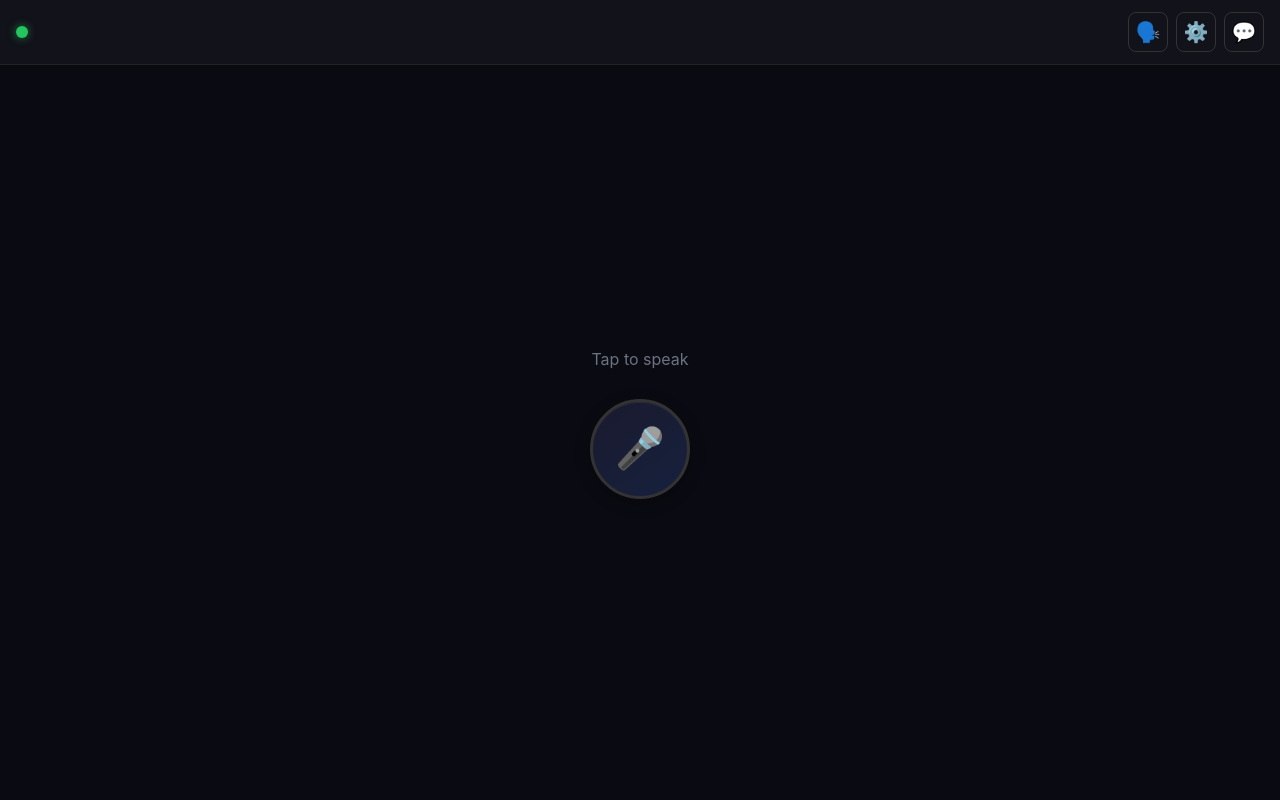
MobileMode › header toggle button › cycles through modes: voice -> unified -> visualizer -> voice
Click to switch to unified mode
Step 1. Click the button named "switch to unified mode" → (1148, 32), box left=1128, top=12, right=1168, bottom=52
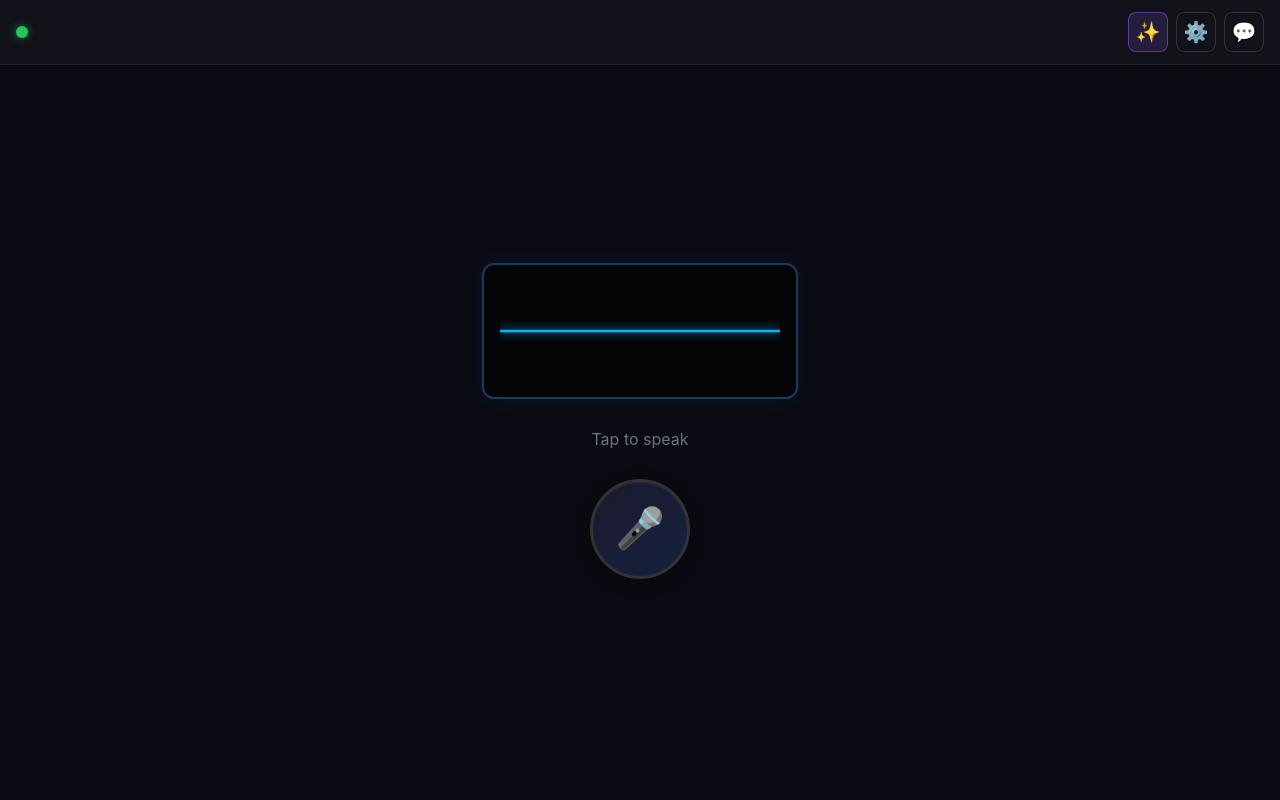
Result: the button named "switch to visualizer mode" reads "✨"
Click to switch to visualizer mode
Step 2. Click the button named "switch to visualizer mode" → (1148, 32), box left=1128, top=12, right=1168, bottom=52
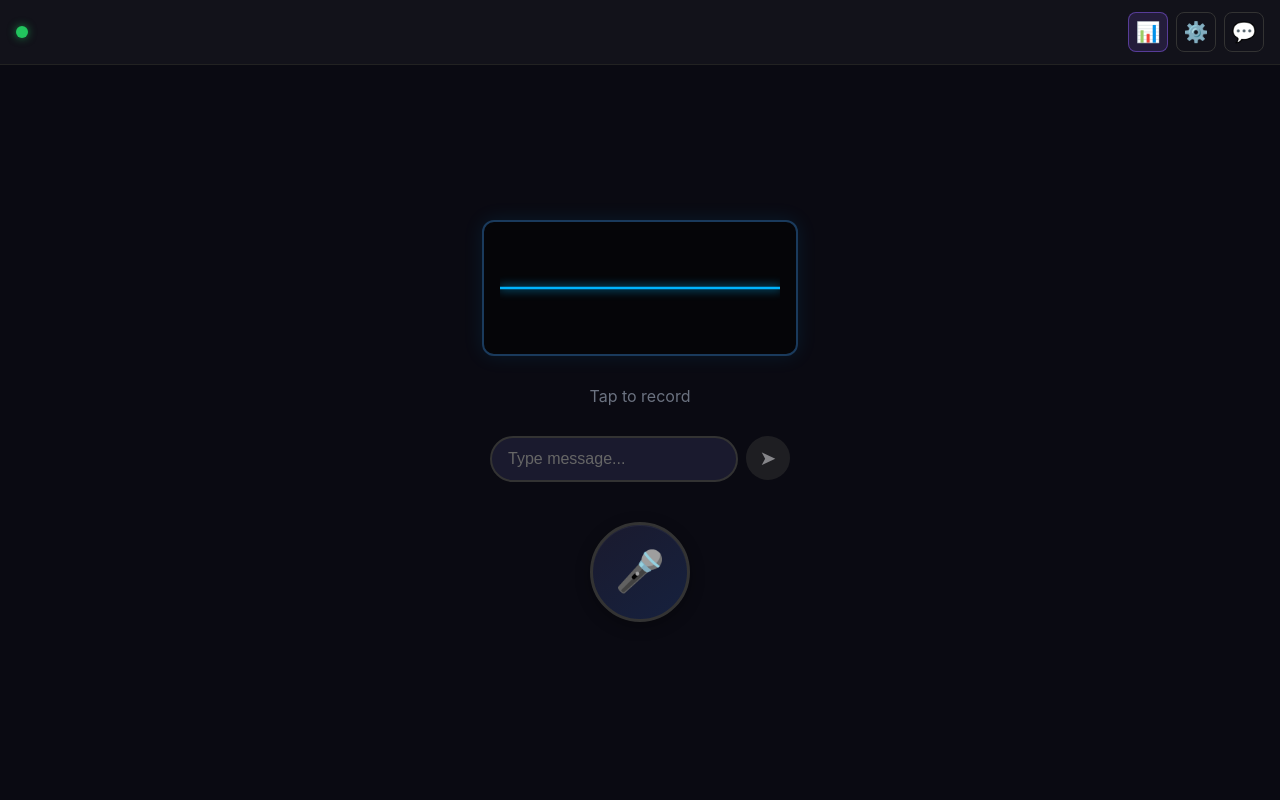
Result: the button named "switch to voice mode" reads "📊"
Click to switch back to voice mode
Step 3. Click the button named "switch to voice mode" → (1148, 32), box left=1128, top=12, right=1168, bottom=52
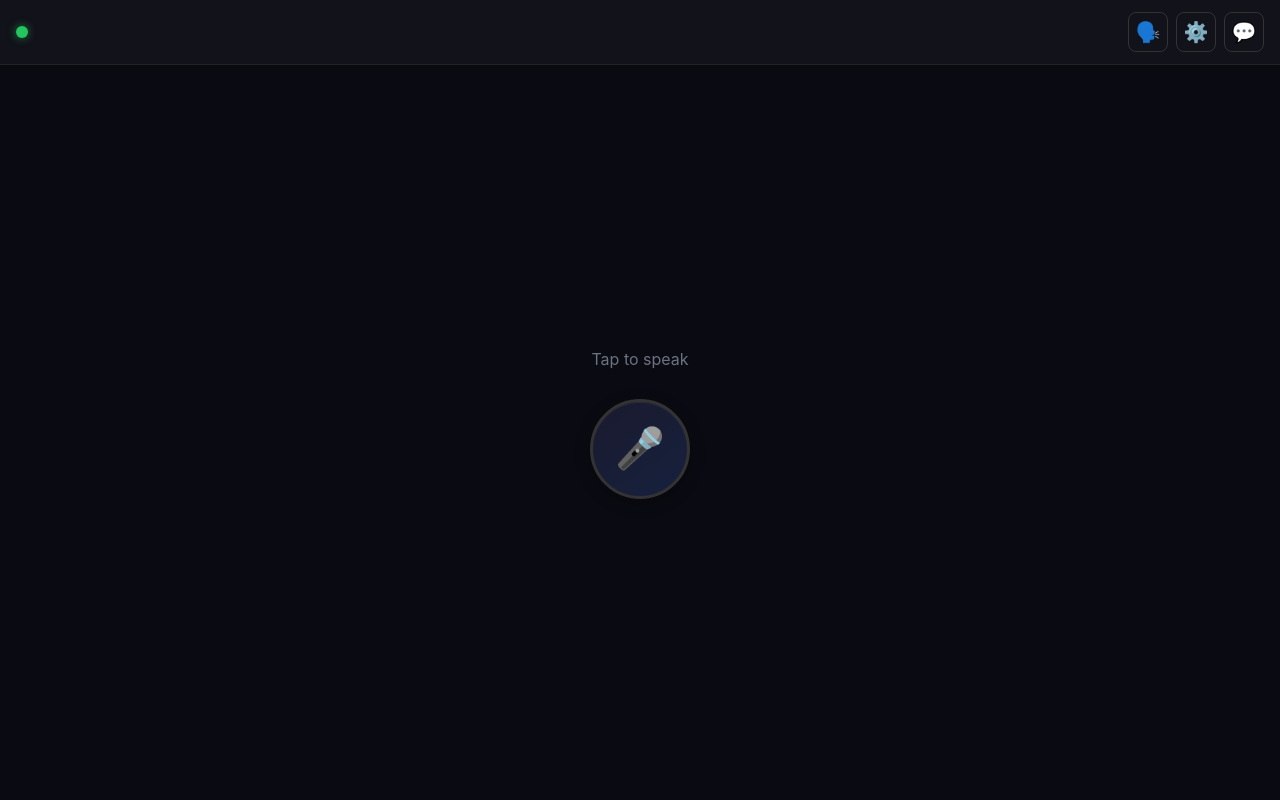
Result: the button named "switch to unified mode" reads "🗣️" at left=1128, top=12, right=1168, bottom=52
